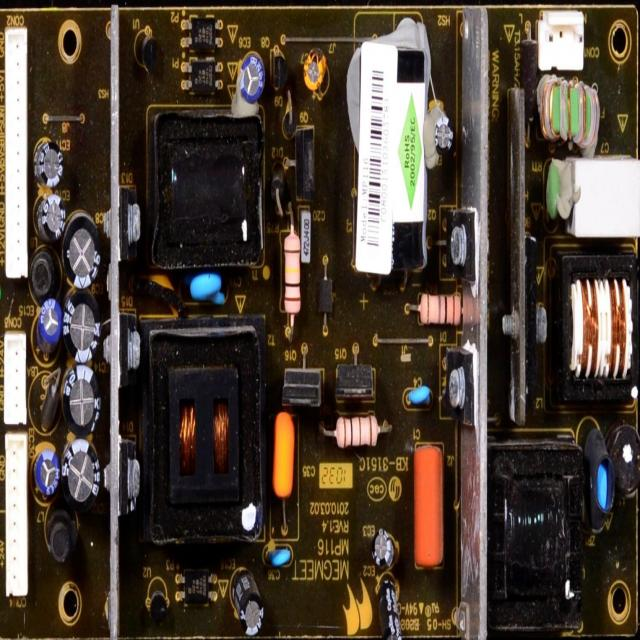Capacitor: (268, 410, 299, 540), (64, 289, 102, 365), (64, 213, 100, 288), (64, 370, 103, 436), (64, 440, 100, 511), (234, 568, 262, 639), (239, 54, 266, 108), (38, 194, 66, 243), (37, 296, 64, 344), (186, 272, 224, 306), (37, 136, 62, 186), (36, 449, 60, 501), (302, 50, 324, 96), (298, 203, 313, 266), (263, 546, 293, 565)
Connector: (5, 26, 29, 280), (5, 432, 30, 596), (413, 443, 445, 569), (537, 12, 584, 72), (4, 332, 28, 426), (403, 389, 433, 406)
Resistor Network: (281, 222, 304, 324), (322, 418, 391, 449), (414, 296, 464, 326)
Transistor: (356, 40, 426, 275), (282, 368, 324, 407), (336, 362, 376, 402), (294, 128, 314, 198)
